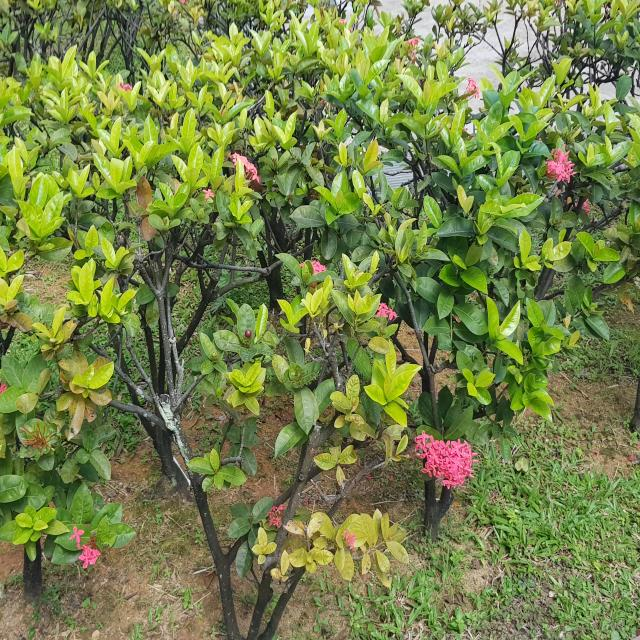Chinese-Ixora: (414, 429, 479, 491), (70, 522, 106, 569), (18, 420, 56, 458), (545, 142, 578, 184), (227, 149, 260, 184), (298, 255, 327, 278), (266, 504, 288, 528), (374, 301, 398, 321), (339, 526, 358, 551), (403, 36, 420, 59), (463, 76, 482, 95), (200, 186, 216, 201)
